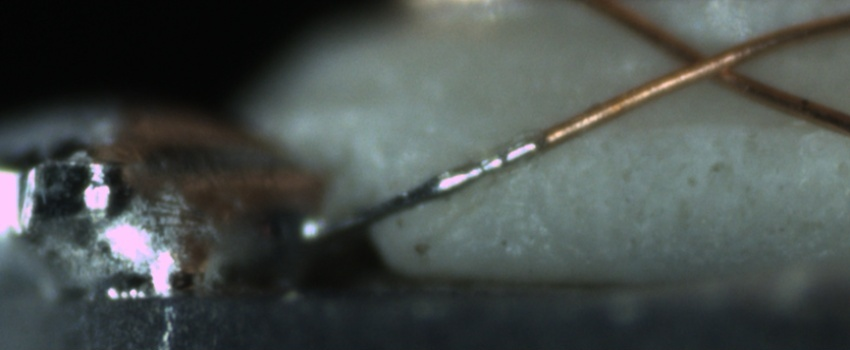CL: (655, 30, 760, 93)
DL: (550, 104, 845, 153)
TS: (297, 138, 542, 241)
TTCW: (304, 103, 618, 241)
